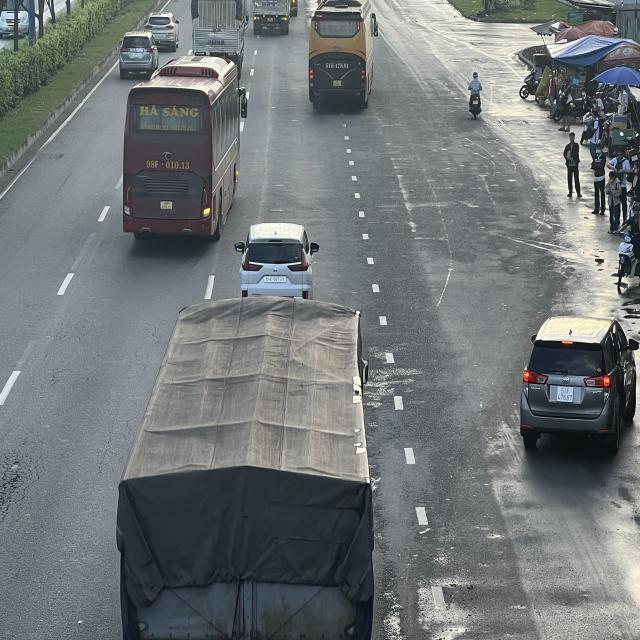car: (520, 314, 638, 451), (238, 220, 320, 304), (119, 32, 161, 77), (146, 10, 182, 49)
coach: (122, 54, 246, 244), (308, 0, 379, 105)
truck: (121, 296, 379, 639), (191, 0, 249, 57)
